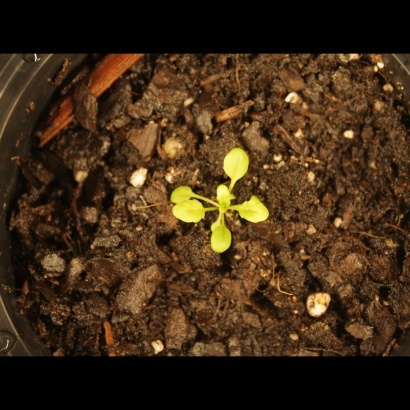leaf: (218, 140, 255, 182), (236, 195, 275, 227), (171, 199, 206, 225), (167, 184, 200, 208), (209, 181, 235, 210), (210, 224, 234, 255)
